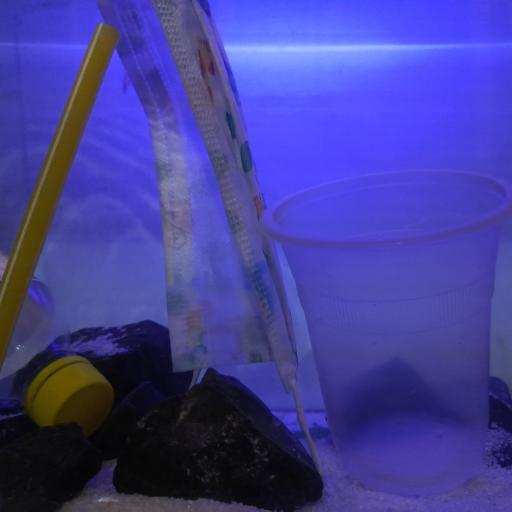bottle_cap: (33, 366, 113, 433)
mask: (96, 0, 304, 377)
plastic_bottle: (0, 248, 119, 440)
plastic_cup: (259, 164, 512, 500)
plastic_straw: (0, 21, 122, 363)
